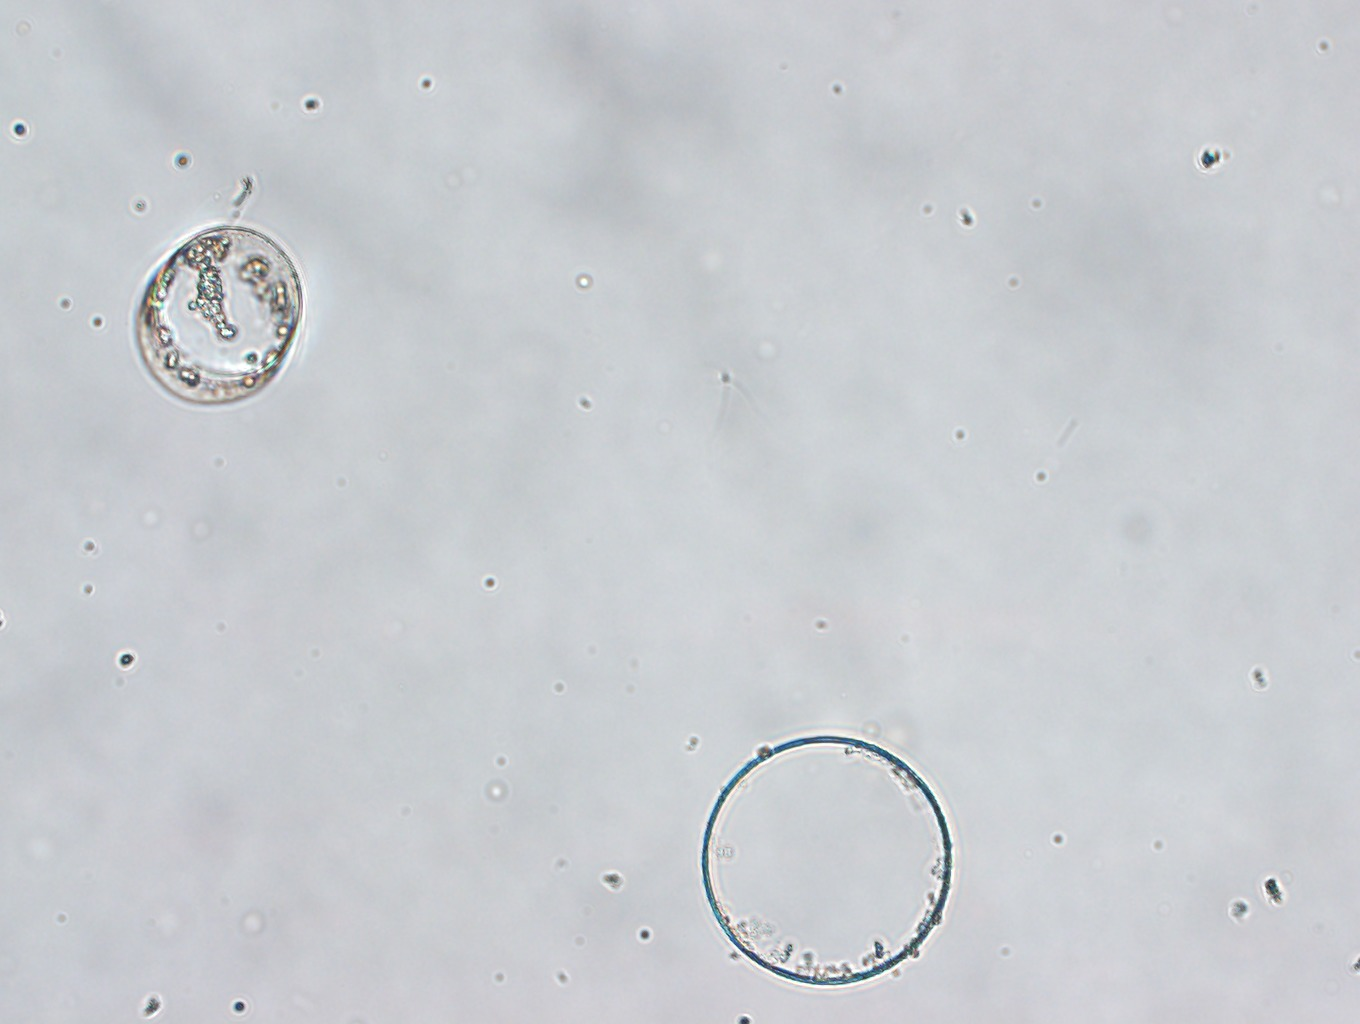coscinodiscus: (697, 724, 959, 992), (123, 214, 309, 413)
